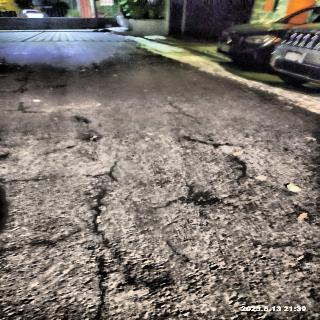crack: (90, 185, 122, 248), (88, 257, 115, 320), (178, 132, 247, 152), (228, 157, 256, 187), (78, 168, 132, 183), (170, 101, 200, 127), (13, 98, 48, 119)
